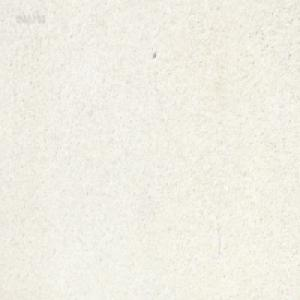Wrench: (195, 0, 202, 5)
